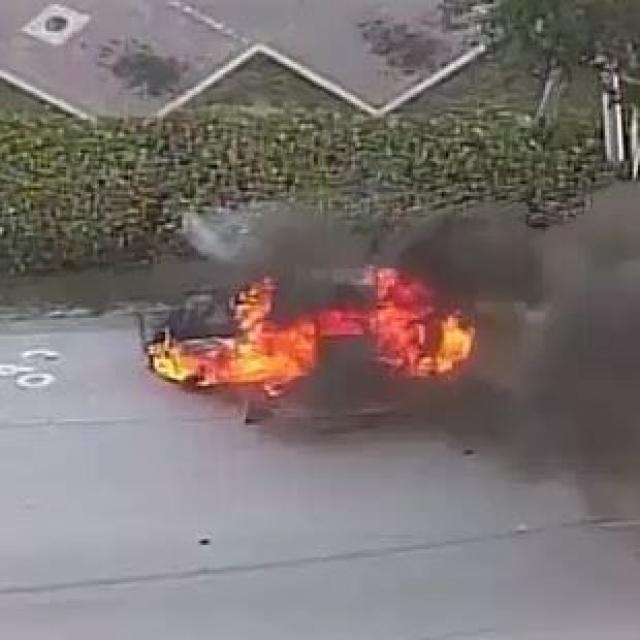Fire: (156, 272, 468, 390)
Smoke: (272, 194, 640, 506)
